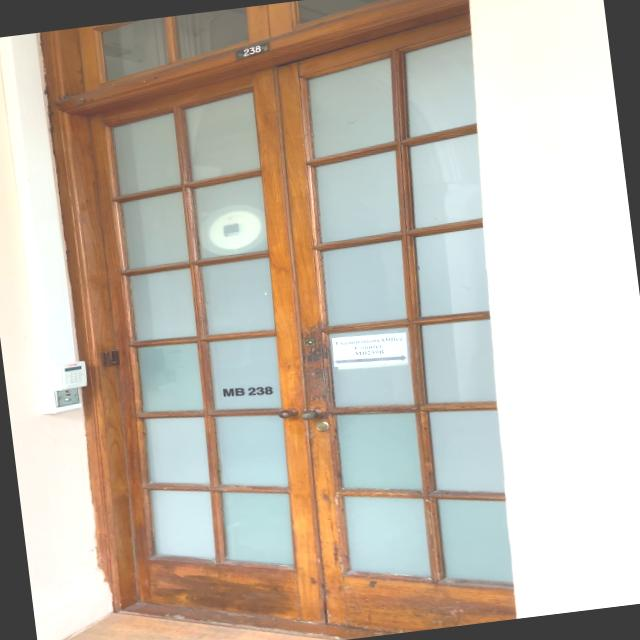room238: (232, 41, 270, 61)
